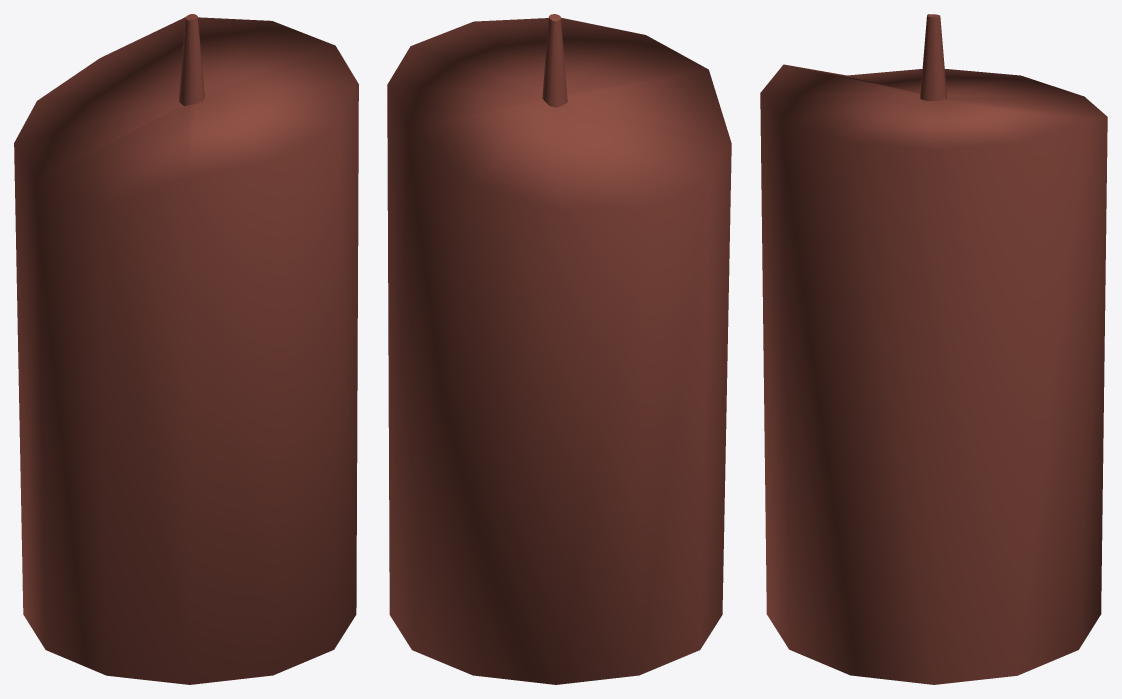
Rendered from Candle_04.fbx.
3 views of the same model, side by side, from view 1: azimuth 30°, elevation 25°; view 2: azimuth 150°, elevation 25°; view 3: azimuth 270°, elevation 25° (orthographic).
Visible parts, largest first — view 1: Candle_04; view 2: Candle_04; view 3: Candle_04.
Boxes of the visible parts, left/top/right/bottom form: Candle_04: left=14, top=14, right=358, bottom=684; Candle_04: left=387, top=14, right=731, bottom=684; Candle_04: left=760, top=14, right=1107, bottom=684.
Bounding box in the file's own units: 7.8 × 14.96 × 7.84.
